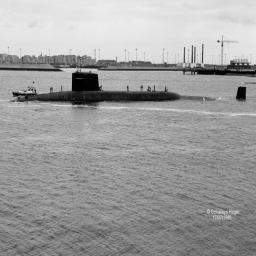submarine: (13, 70, 256, 104)
